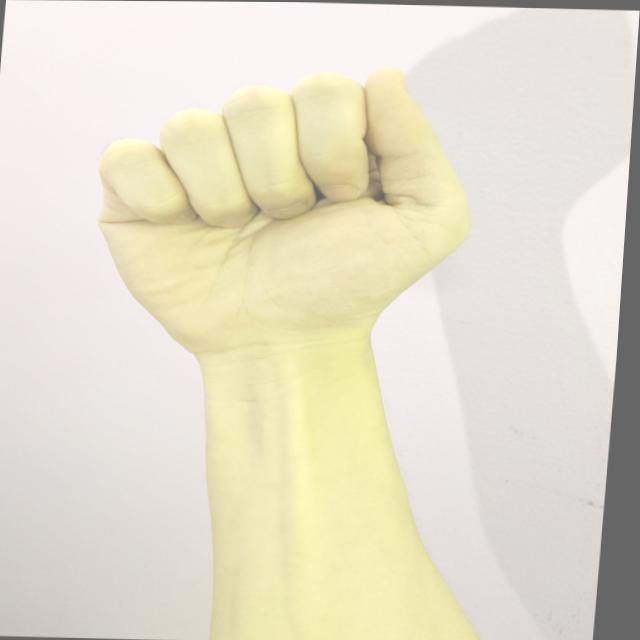A: (76, 51, 495, 381)
